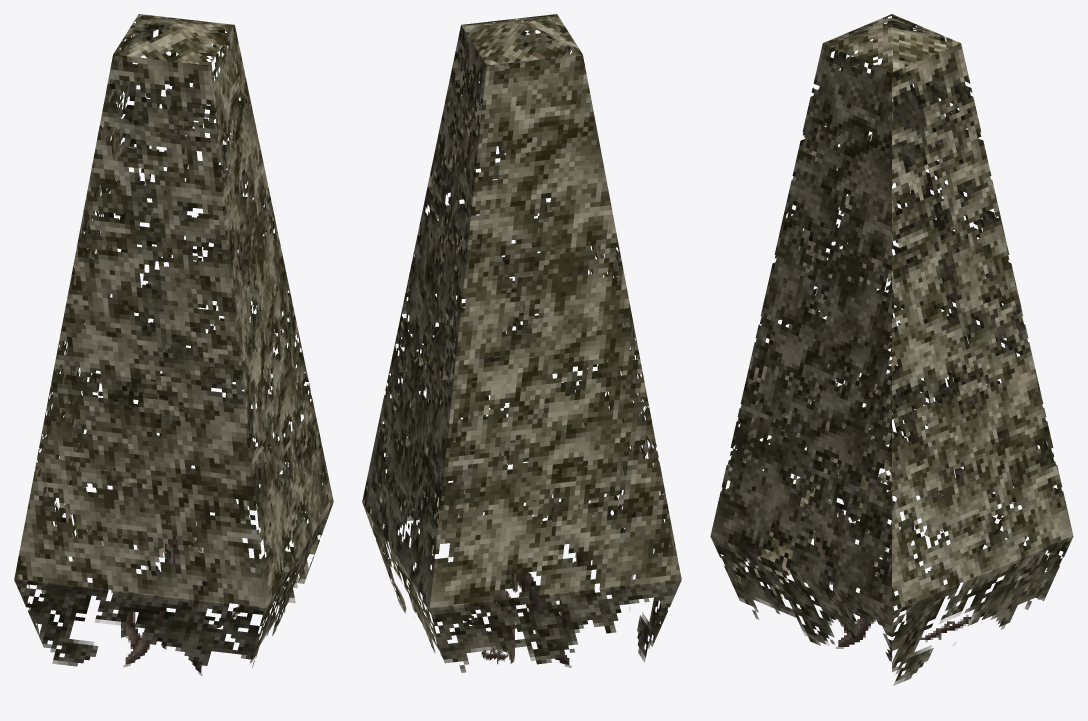
File: bush_end_tall_roots_dead.glb
3 renders of one model, left to right at view 1: azimuth 30°, elevation 25°; view 2: azimuth 150°, elevation 25°; view 3: azimuth 270°, elevation 25°, orthographic.
Parts seen in each view (by area): view 1: bush_end_tall_roots_dead; view 2: bush_end_tall_roots_dead; view 3: bush_end_tall_roots_dead.
Boxes of the visible parts, bbox=[...] form: bush_end_tall_roots_dead: bbox=[14, 14, 333, 675]; bush_end_tall_roots_dead: bbox=[362, 14, 681, 672]; bush_end_tall_roots_dead: bbox=[710, 14, 1073, 685].
Bounding box in the file's own units: 1.39 × 2.63 × 1.39.
2 materials, 2 textured.
